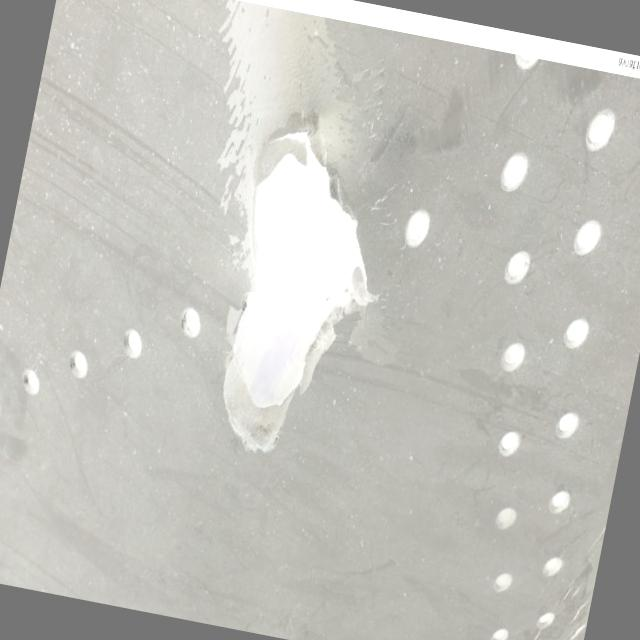crack: (196, 119, 406, 466)
